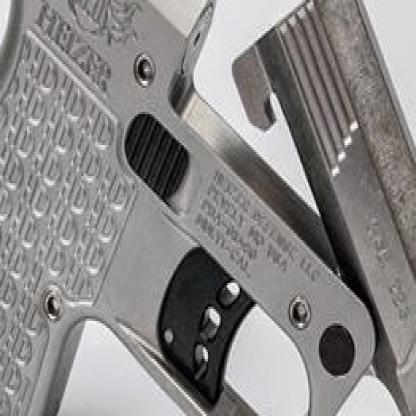gun: (0, 0, 231, 160)
